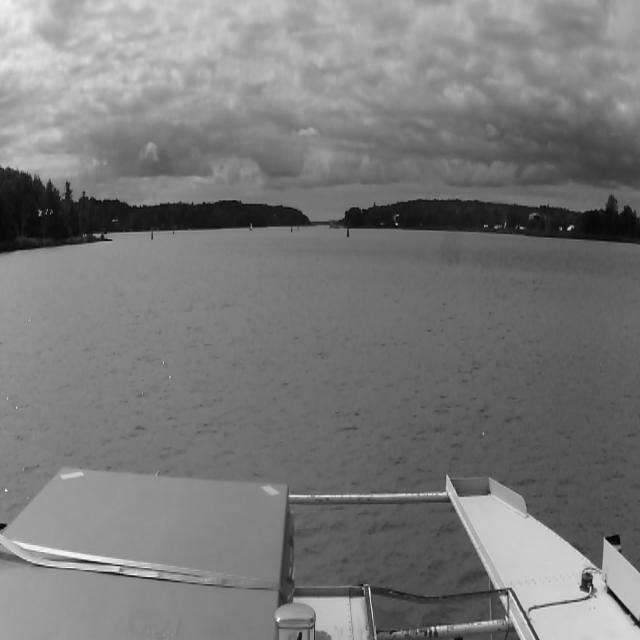buoy: (150, 228, 154, 240), (346, 226, 349, 238), (172, 228, 175, 234), (297, 225, 299, 231), (291, 226, 293, 232)
ship: (250, 223, 253, 233)
